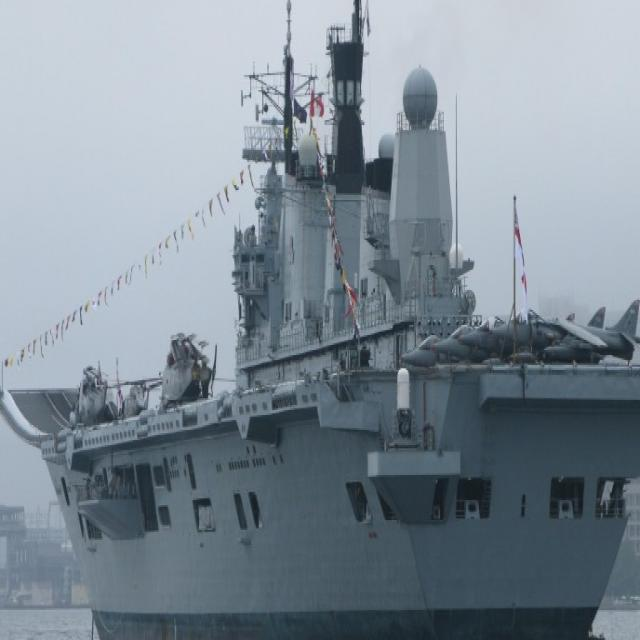Portanaves: (1, 4, 640, 640)
